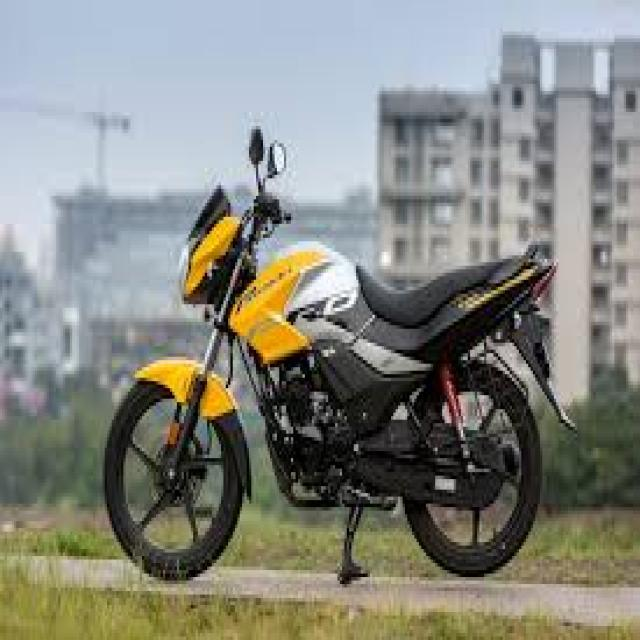bike: (104, 126, 578, 586)
